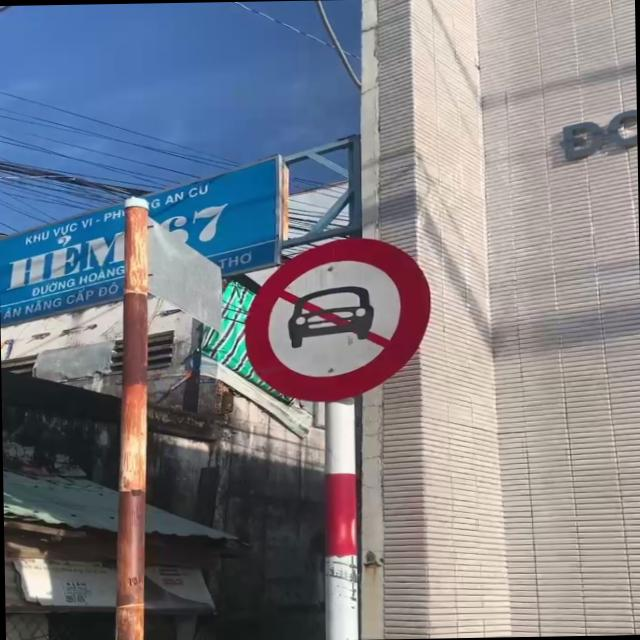Cam_O_To: (244, 237, 436, 402)
